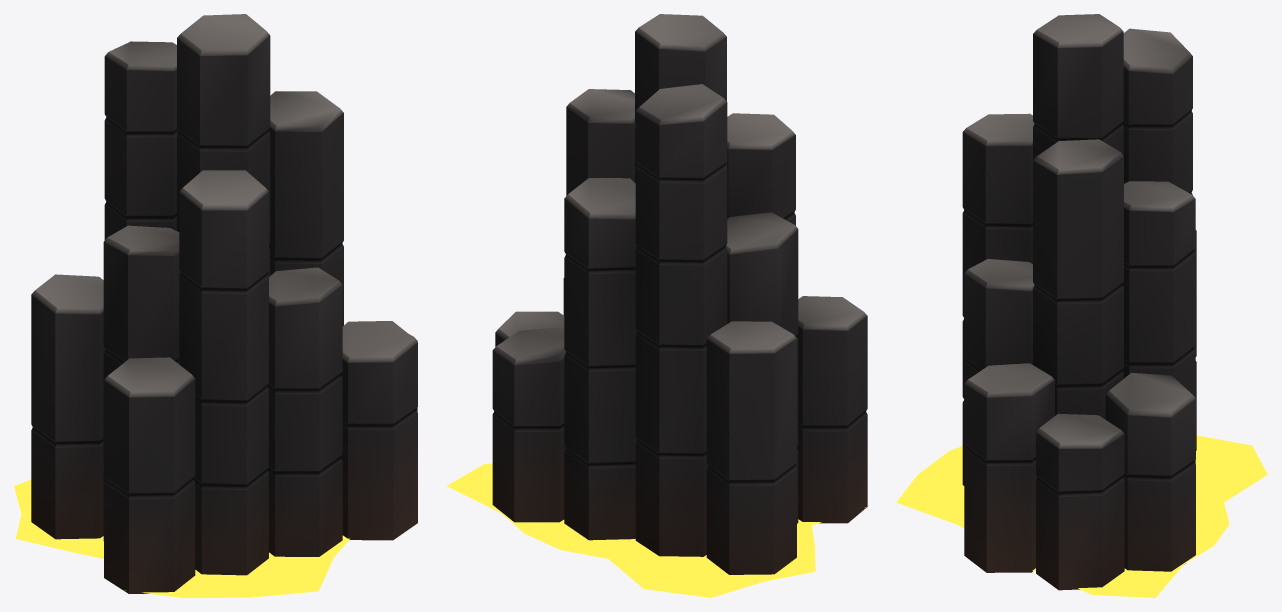
The model's file is basalt_columns.glb.
3 renders of one model, left to right at view 1: azimuth 30°, elevation 25°; view 2: azimuth 150°, elevation 25°; view 3: azimuth 270°, elevation 25°, orthographic. The views are drawn at different scales.
Visible parts, largest first — view 1: basalt_columns; view 2: basalt_columns; view 3: basalt_columns.
Part boxes in pixels (x1,y1,x2,y2): basalt_columns: (14,14,417,597); basalt_columns: (447,14,867,597); basalt_columns: (896,14,1267,597).
Size of the model in its own units: 3.2 by 4.02 by 2.83.
